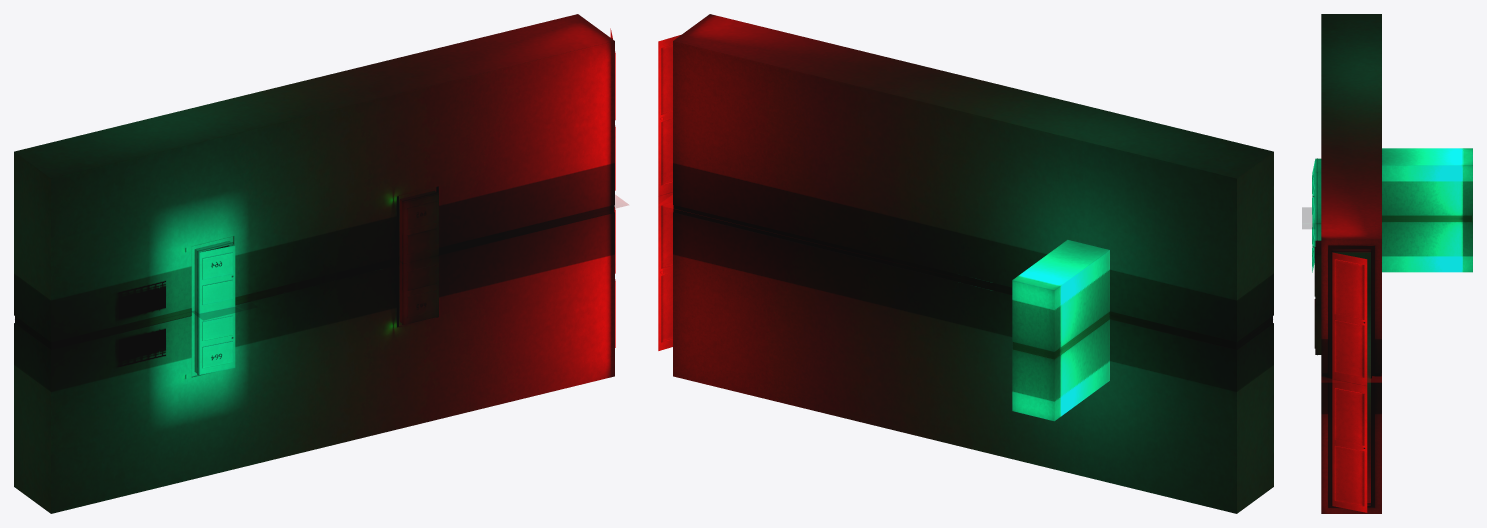
The model's file is corridor_hospital_baked_reflections.glb.
3 renders of one model, left to right at view 1: azimuth 30°, elevation 25°; view 2: azimuth 150°, elevation 25°; view 3: azimuth 270°, elevation 25°, orthographic. The views are drawn at different scales.
Parts seen in each view (by area): view 1: Plane.002_0; view 2: Plane.002_0; view 3: Plane.002_0.
Boxes of the visible parts, x1,y1,x2,y2 form: Plane.002_0: [14, 14, 628, 513]; Plane.002_0: [658, 14, 1273, 513]; Plane.002_0: [1302, 14, 1472, 513].
Size of the model in its own units: 18.34 by 10 by 5.64.
2 materials, 2 textured.
